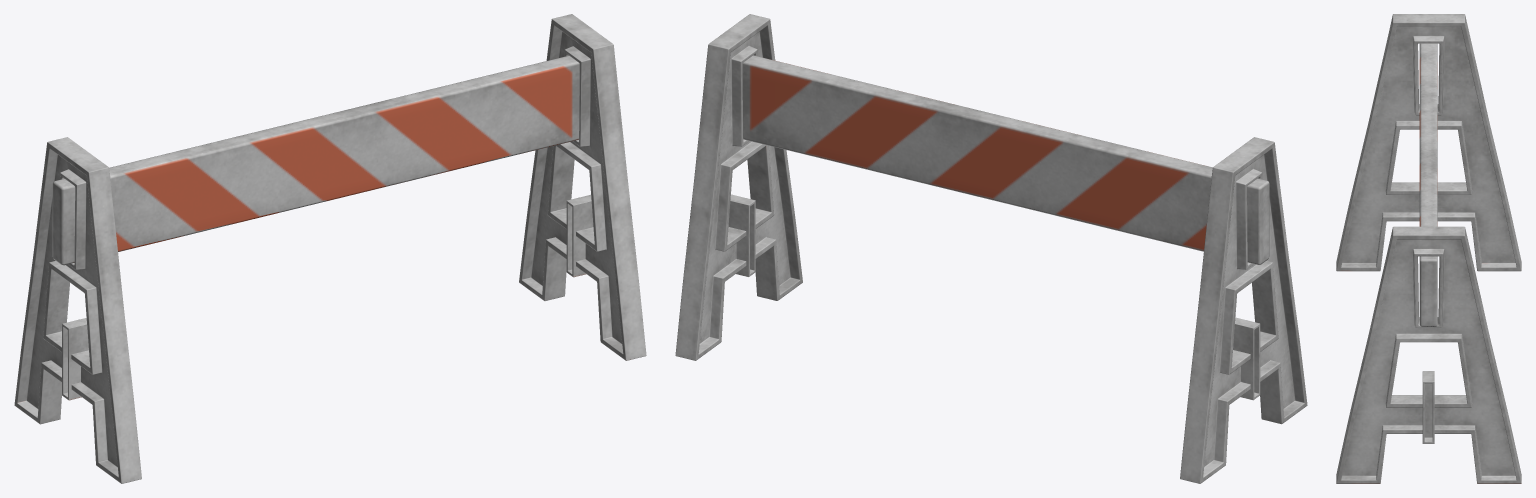
File: traffic_barrier.glb
3 renders of one model, left to right at view 1: azimuth 30°, elevation 25°; view 2: azimuth 150°, elevation 25°; view 3: azimuth 270°, elevation 25°, orthographic. The views are drawn at different scales.
Visible parts, largest first — view 1: Object_2, Object_3; view 2: Object_2, Object_3; view 3: Object_2, Object_3.
Part boxes in pixels (bbox=[...]): Object_2: bbox=[14, 55, 579, 483]; Object_3: bbox=[519, 14, 646, 360]; Object_2: bbox=[742, 55, 1307, 483]; Object_3: bbox=[675, 14, 802, 360]; Object_2: bbox=[1336, 14, 1521, 326]; Object_3: bbox=[1336, 226, 1521, 483].
Bounding box in the file's own units: 1.66 × 0.8411 × 0.5682.
Materials: 1 (1 with a texture image).
